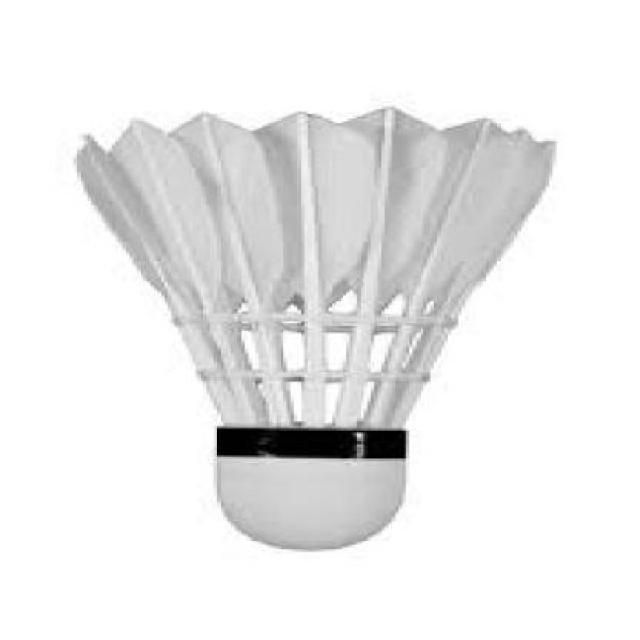Shuttlecock: (72, 106, 563, 554)
